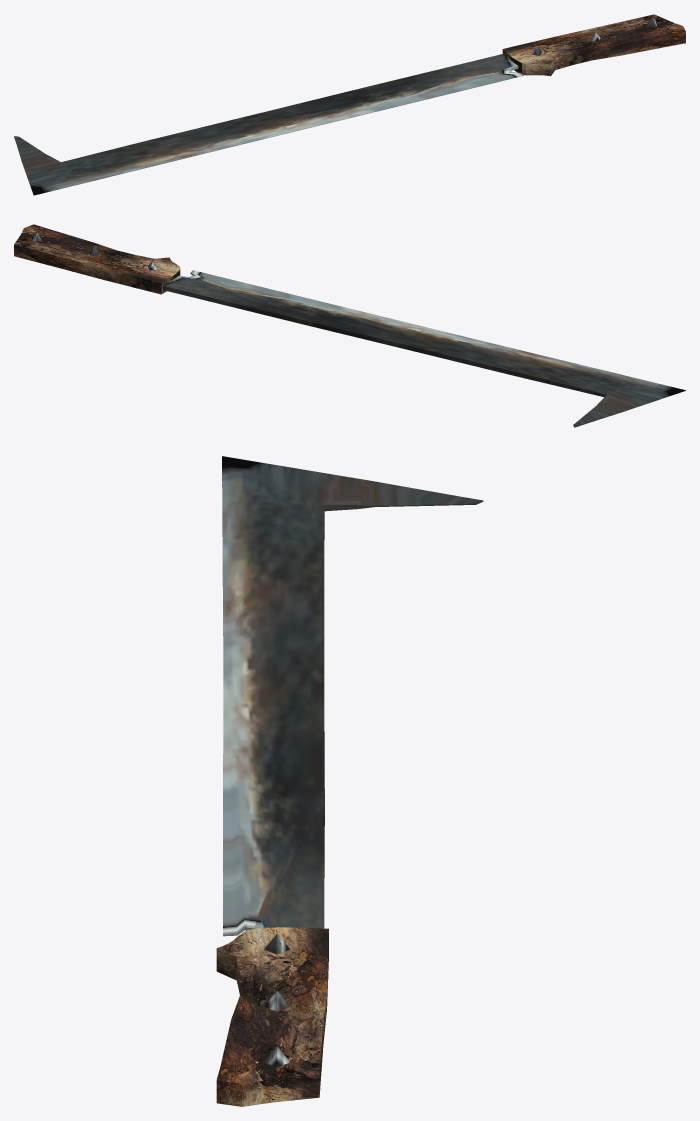
File: miecz4.glb
The picture shows the model from 3 angles, top to bottom: view 1: azimuth 30°, elevation 25°; view 2: azimuth 150°, elevation 25°; view 3: azimuth 270°, elevation 25°; orthographic projection. The views are drawn at different scales.
Parts seen in each view (by area): view 1: zengin; view 2: zengin; view 3: zengin.
Boxes of the visible parts, left/top/right/bottom form: zengin: left=14, top=14, right=685, bottom=195; zengin: left=14, top=224, right=685, bottom=427; zengin: left=216, top=456, right=483, bottom=1106.
Bounding box in the file's own units: 0.9535 × 0.0388 × 0.1683.
Materials: 2 (2 with a texture image).
